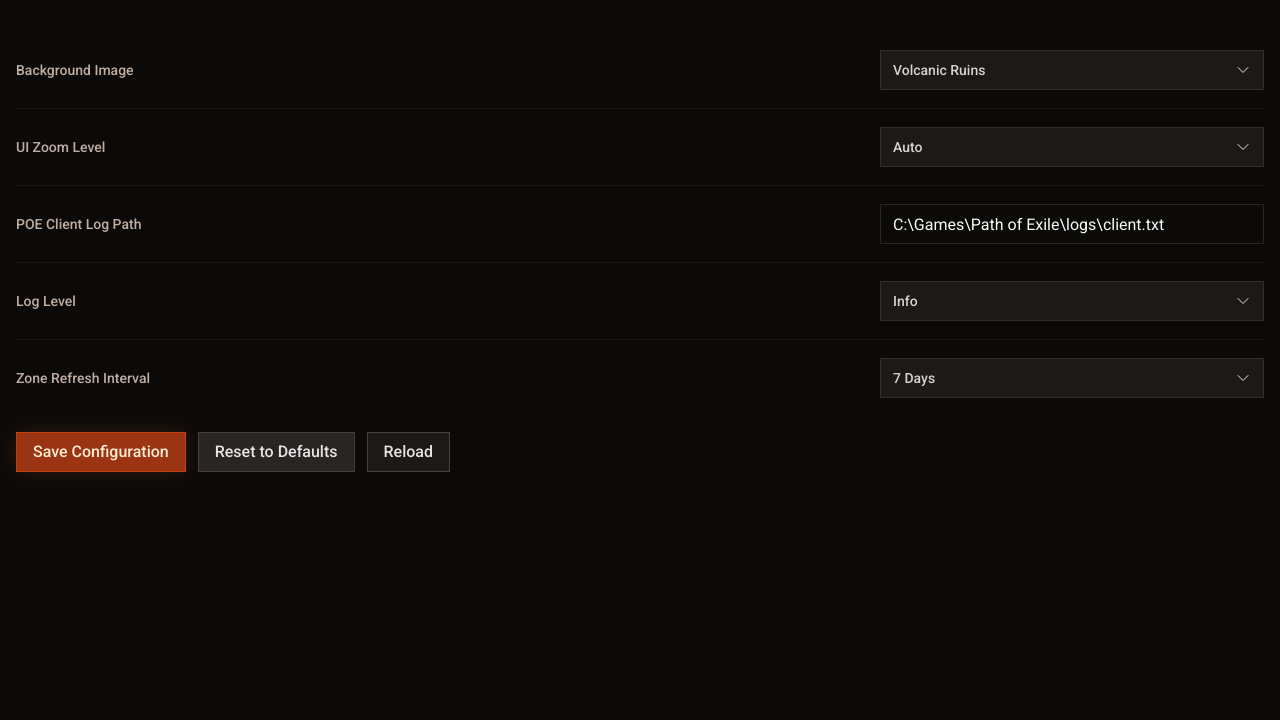
Scenario: SettingsForm › Reset Configuration › resets config and shows success message
Click the button "Reset to Defaults" at (276, 452), box [198,432,354,472]
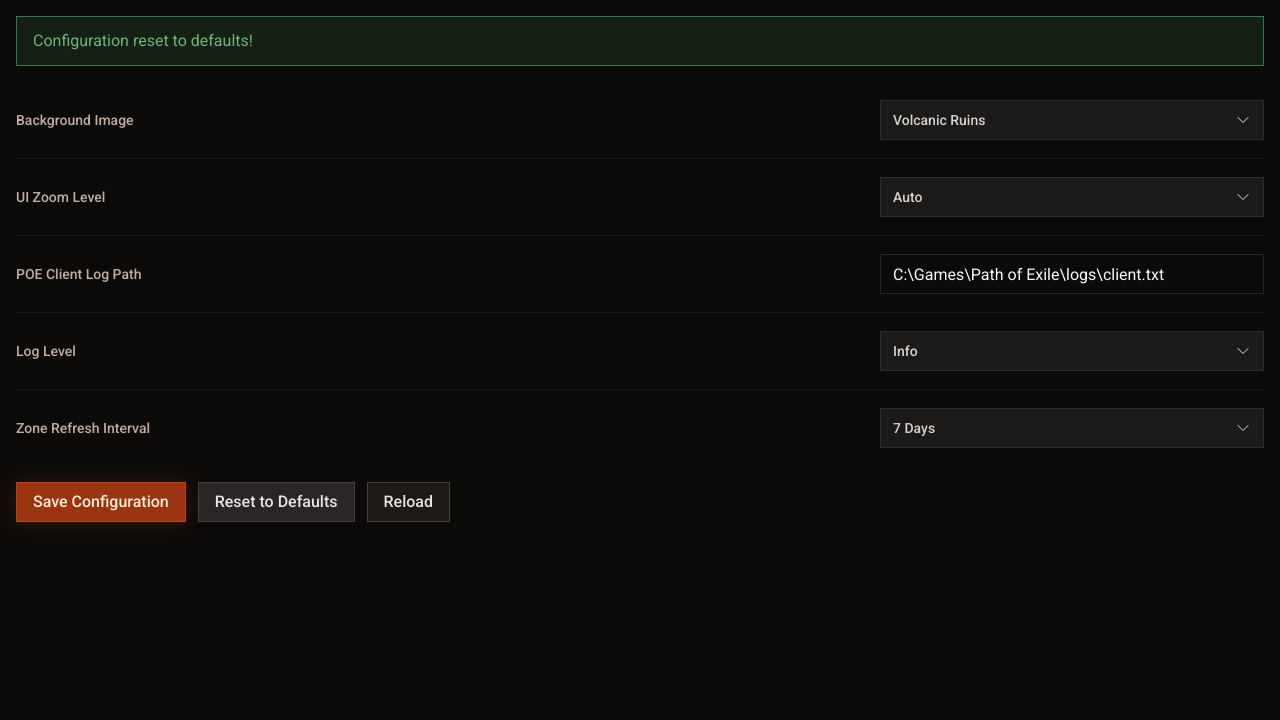
Expected: the text "Configuration reset to defaults!" is shown, [16,16,1264,66]
